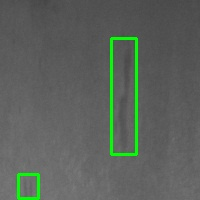inclusion: (111, 38, 136, 154), (18, 174, 38, 198)
